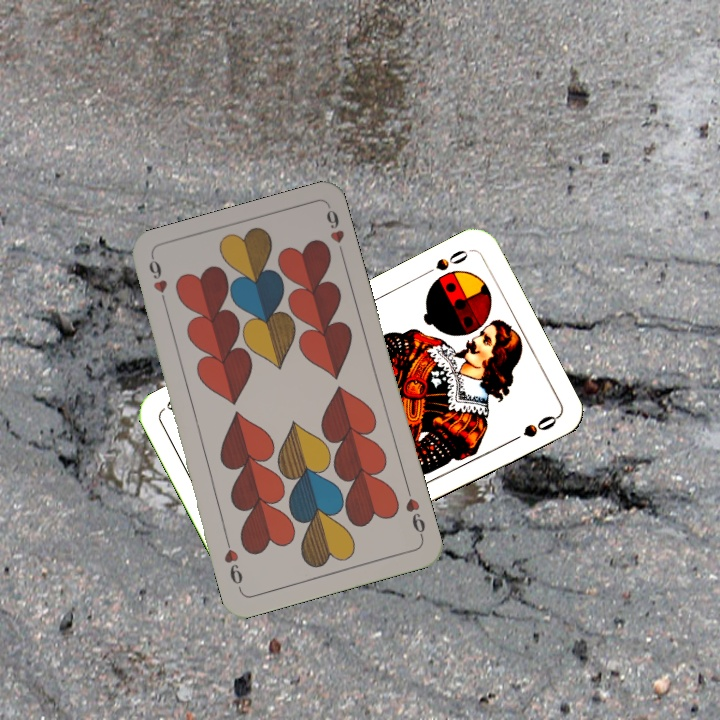H9: (144, 254, 171, 313), (401, 484, 428, 542)
SO: (418, 245, 471, 279)
